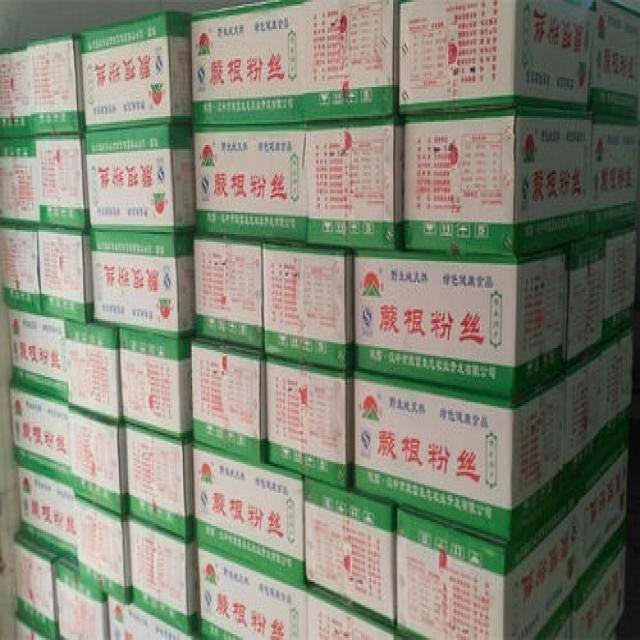box: (353, 371, 567, 541), (353, 246, 567, 398), (402, 110, 593, 257), (396, 493, 576, 640), (399, 0, 596, 114), (193, 439, 307, 588), (192, 0, 305, 126), (303, 476, 397, 626), (79, 12, 195, 131), (193, 128, 308, 244), (305, 120, 402, 251), (84, 122, 198, 232), (262, 242, 355, 373), (302, 2, 399, 124), (266, 356, 353, 487), (198, 538, 314, 636), (90, 232, 195, 338), (189, 335, 268, 462), (127, 514, 201, 632), (193, 230, 264, 350), (120, 325, 193, 439), (575, 439, 631, 586), (125, 425, 195, 538), (72, 495, 131, 605), (17, 464, 78, 570), (26, 31, 86, 137), (563, 346, 604, 501), (9, 381, 72, 481), (69, 406, 127, 514), (65, 317, 122, 425), (590, 112, 640, 234), (5, 305, 67, 400), (572, 538, 627, 638), (564, 236, 605, 369), (36, 224, 91, 323), (14, 530, 61, 640), (37, 133, 91, 228), (602, 325, 639, 460), (55, 559, 109, 638), (307, 590, 394, 638), (603, 230, 639, 344), (1, 133, 42, 226), (105, 599, 198, 640), (0, 48, 32, 137), (550, 601, 573, 638), (14, 617, 44, 640)
